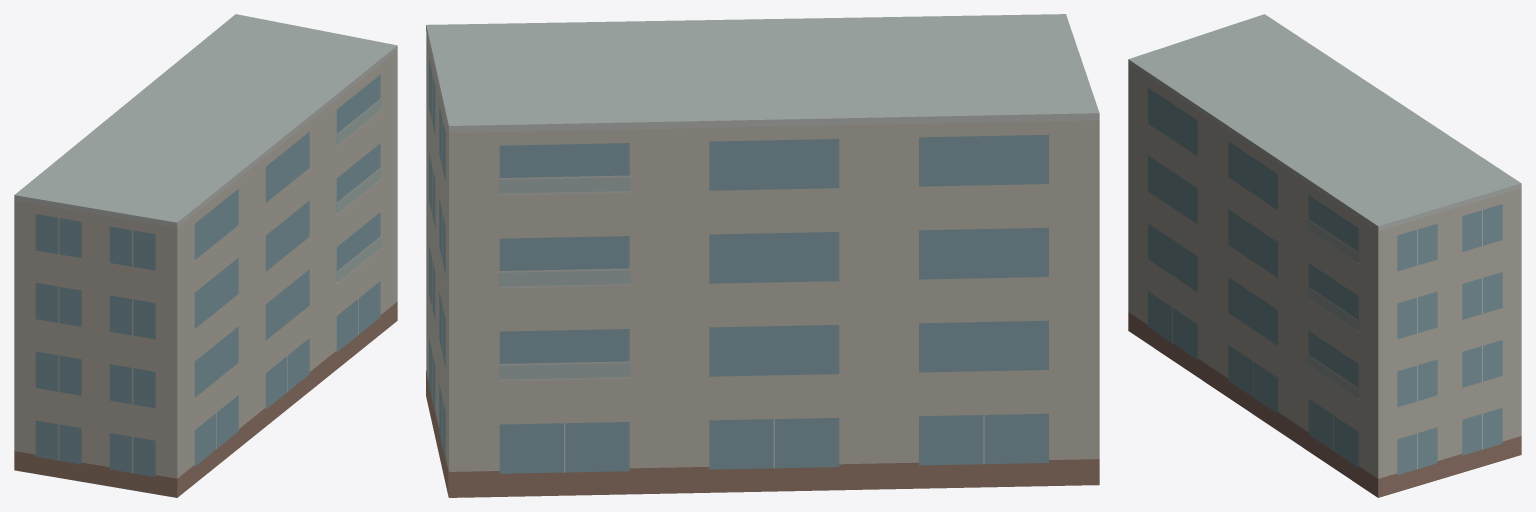
The model's file is survey-upis-32606085.glb.
The picture shows the model from 3 angles, left to right: view 1: azimuth 30°, elevation 25°; view 2: azimuth 150°, elevation 25°; view 3: azimuth 270°, elevation 25°; orthographic projection. The views are drawn at different scales.
Visible parts, largest first — view 1: survey-upis-32606085.tmp; view 2: survey-upis-32606085.tmp; view 3: survey-upis-32606085.tmp.
Part boxes in pixels (box(x1,y1,x2,y2)): survey-upis-32606085.tmp: box(14, 14, 397, 497); survey-upis-32606085.tmp: box(426, 14, 1099, 497); survey-upis-32606085.tmp: box(1128, 14, 1521, 497).
Size of the model in its own units: 22.13 by 13.2 by 17.32.
